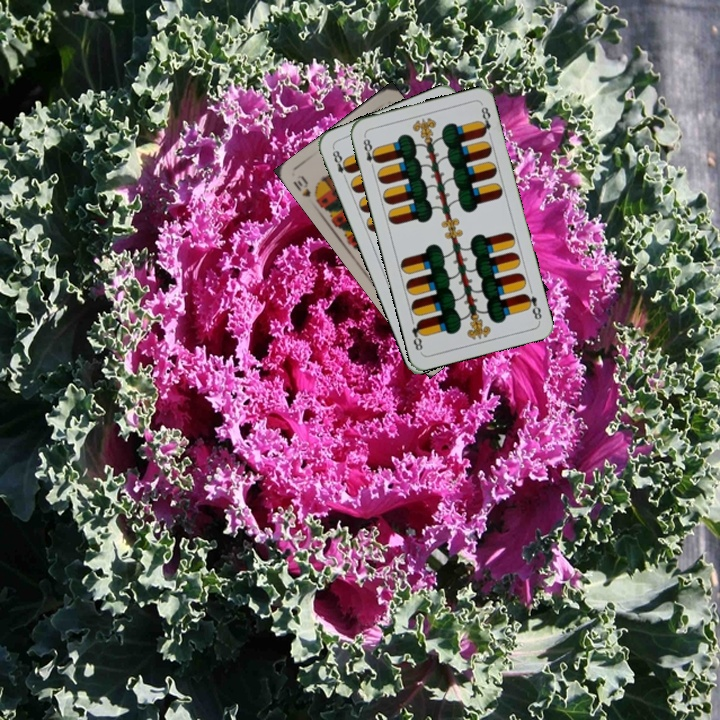E8: (328, 144, 353, 184), (359, 132, 381, 172), (520, 289, 544, 323)
S10: (289, 171, 322, 206)
